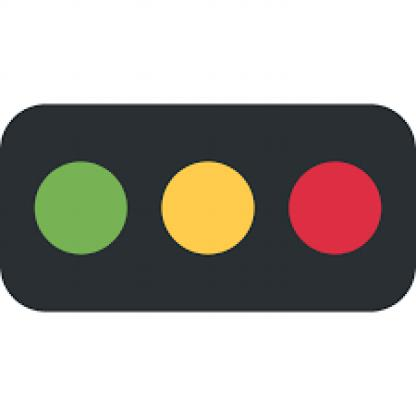traffic-light: (19, 128, 396, 274)
